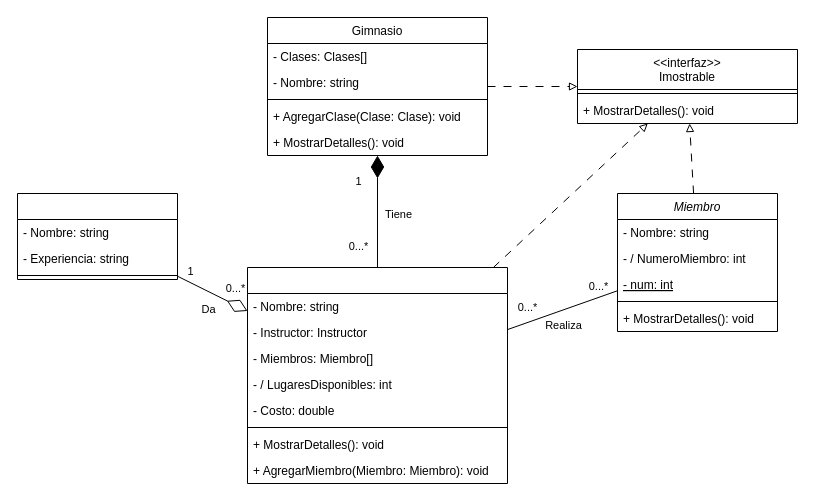
Some shapes in this 815 by 504 pixel diagram are drawn without their labels. Here are the shapes that lost their labels. From the top down, the box of each, then its label:
(16, 192, 178, 280): Instructor
(246, 266, 508, 484): Clase
